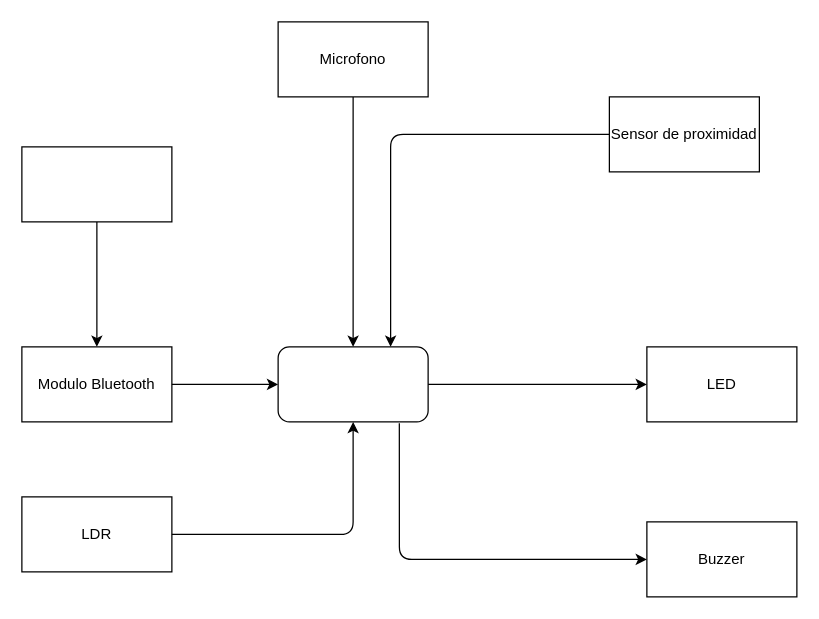
Some shapes in this 819 by 619 pixel diagram are drawn without their labels. Each missing label, with the centre of its shape:
"CONTROL" goes at point 352,384.
"Dispositivo Android" goes at point 96,184.
